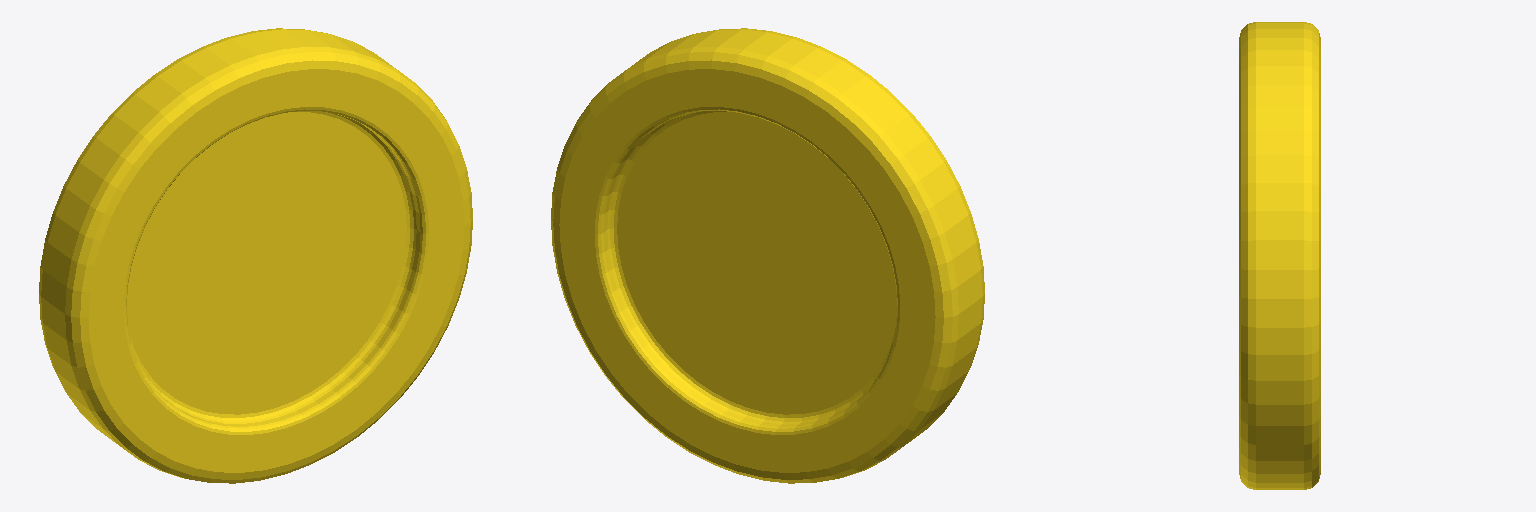
Rendered from coin.obj.
3 renders of one model, left to right at view 1: azimuth 30°, elevation 25°; view 2: azimuth 150°, elevation 25°; view 3: azimuth 270°, elevation 25°, orthographic.
Visible parts, largest first — view 1: Coin_Coin_0; view 2: Coin_Coin_0; view 3: Coin_Coin_0.
Part boxes in pixels (x1,y1,x2,y2): Coin_Coin_0: (39,28,472,483); Coin_Coin_0: (551,28,984,483); Coin_Coin_0: (1239,22,1320,489).
Size of the model in its own units: 0.4 by 0.3992 by 0.07.